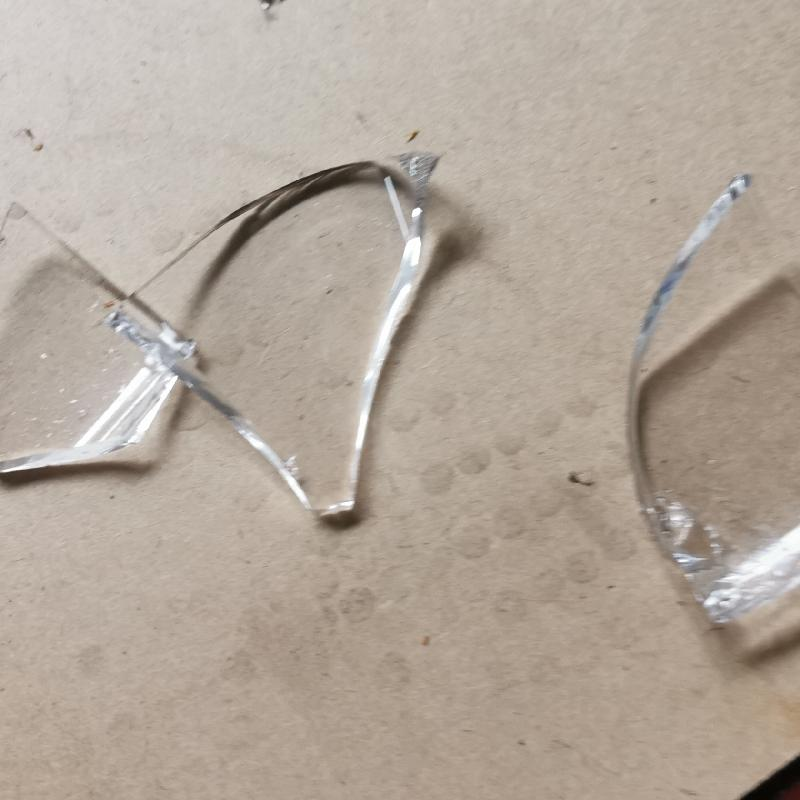glass: (2, 148, 439, 522), (629, 180, 800, 619)
